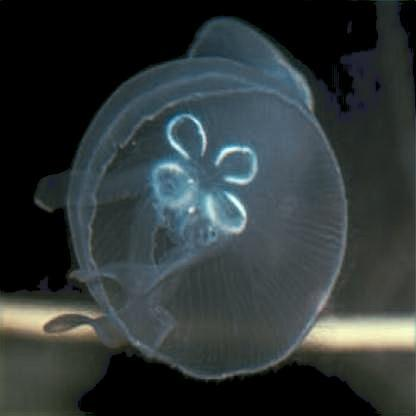Speckle: (35, 42, 349, 376)
